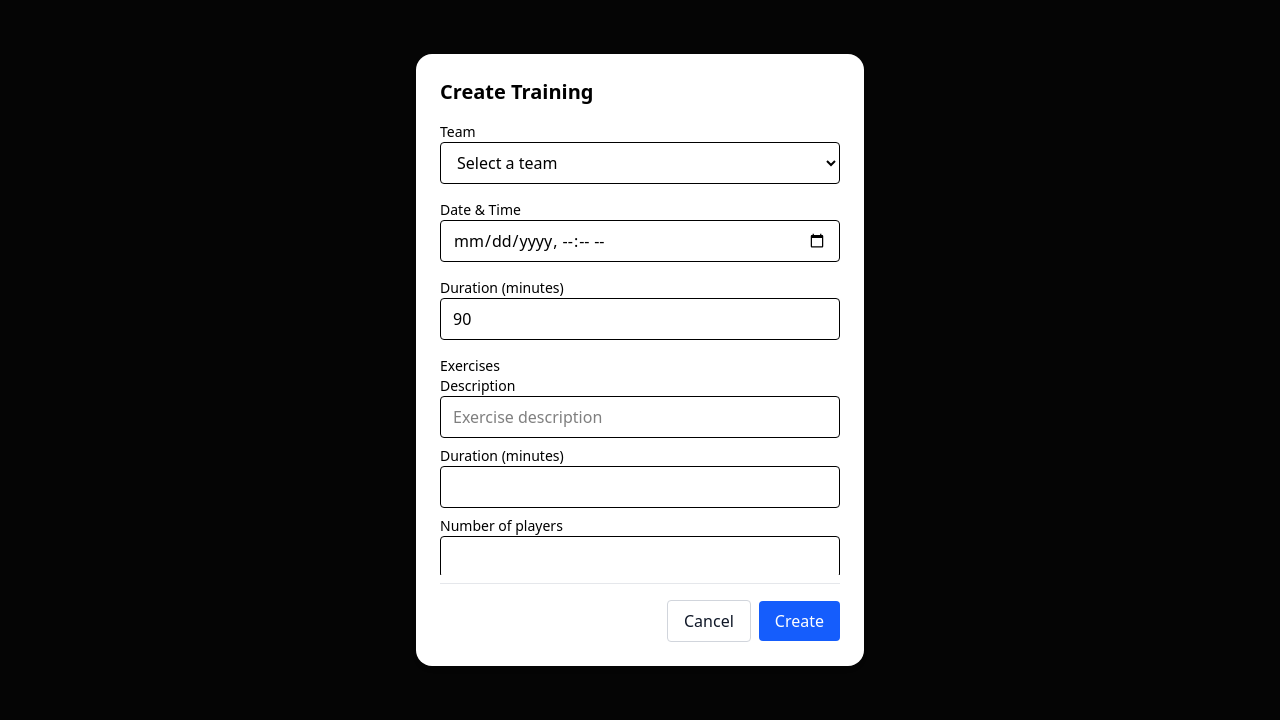
Scenario: choosing a team clears the validation message
The width and height of the screenshot is (1280, 720).
Type "2027-01-01T10:00" into the field named "day" at (640, 241), box [440,220,840,262]
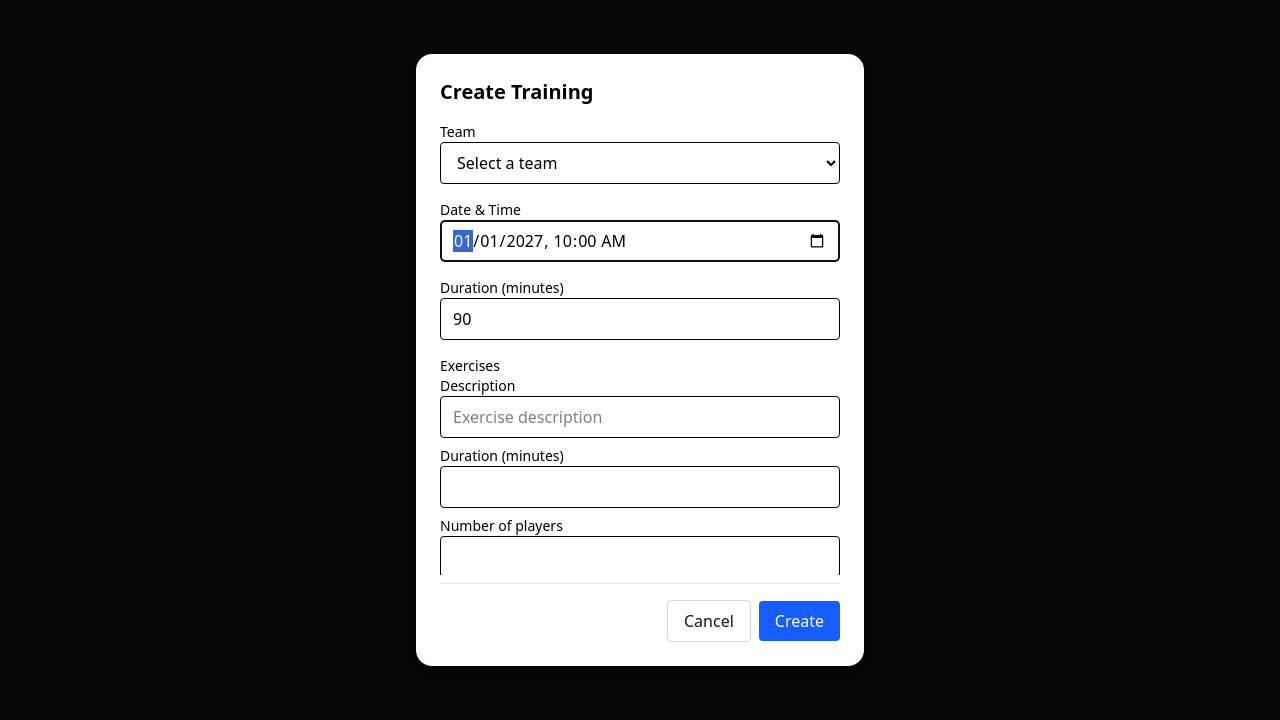
Click the button "Create" at (799, 621), box [759,601,840,641]
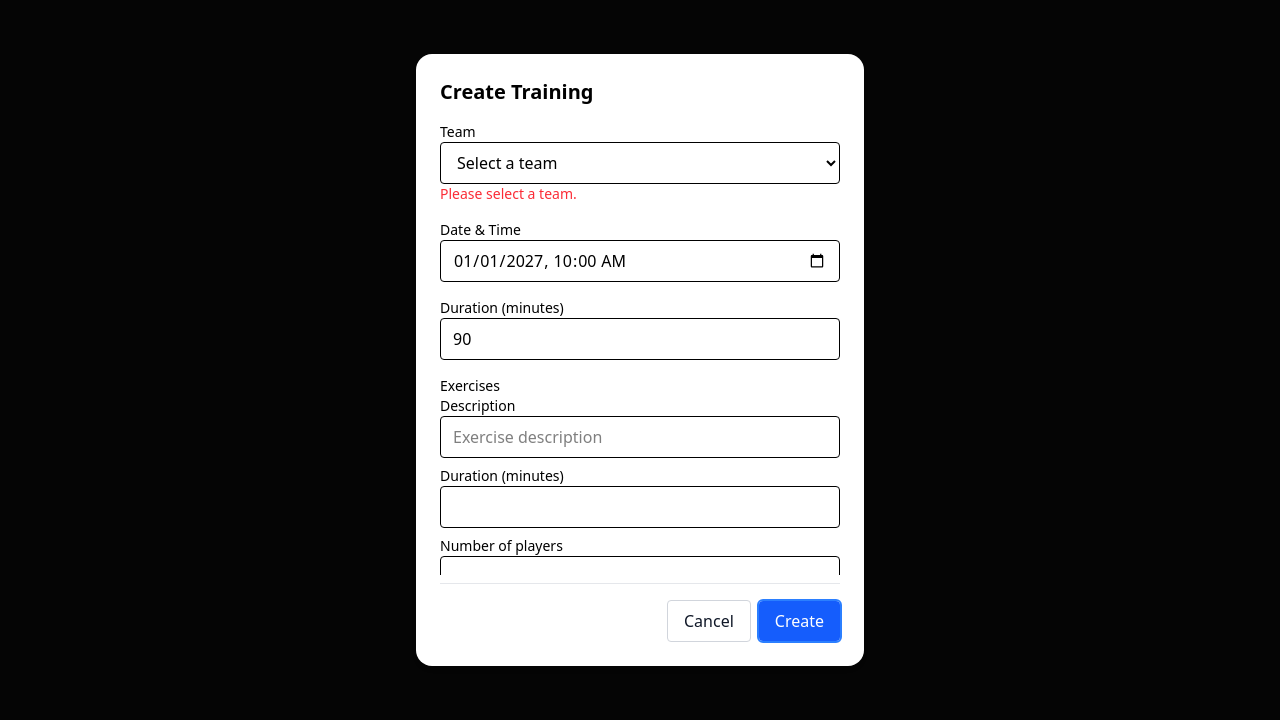
Now the text "Please select a team." is shown, box [440,184,577,203]
Select "Amadora Sub-11" in the dropdown at (640, 163), box [440,142,840,184]
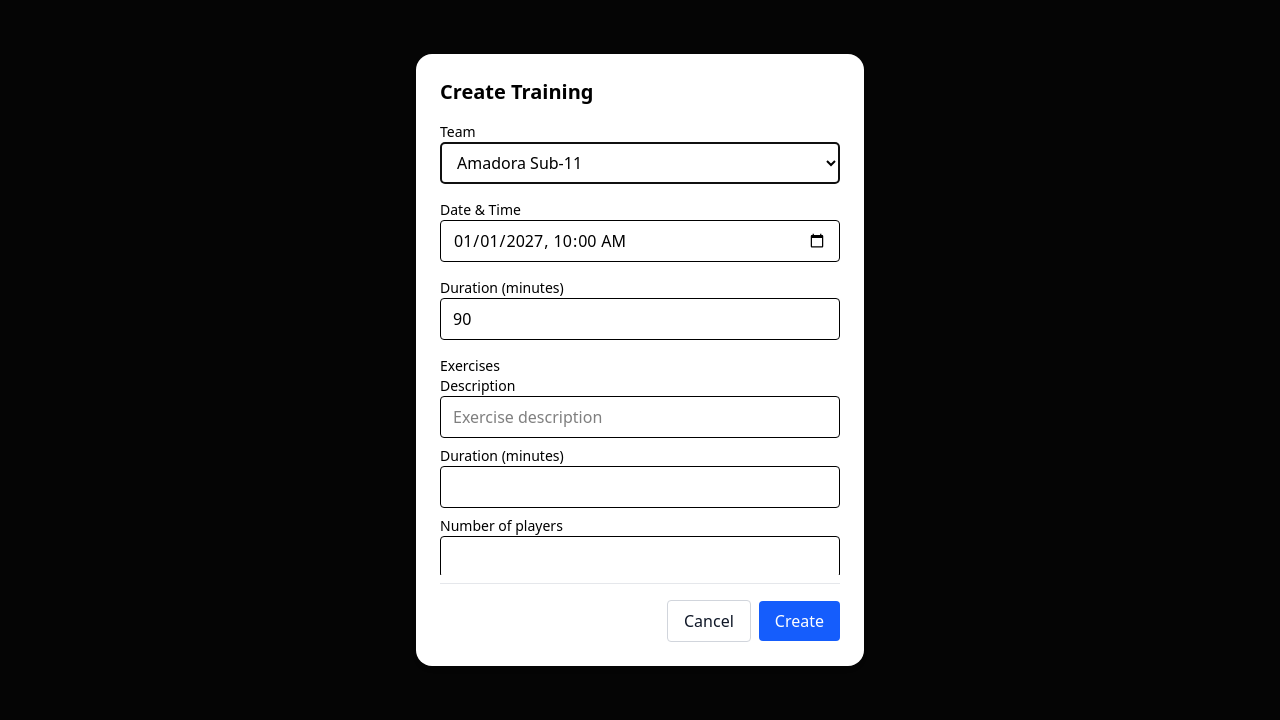
Now the text "Please select a team." is gone
